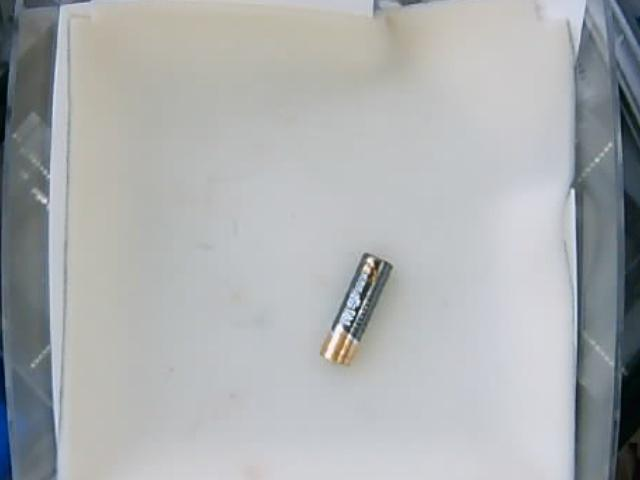Battery: (319, 252, 393, 367)
